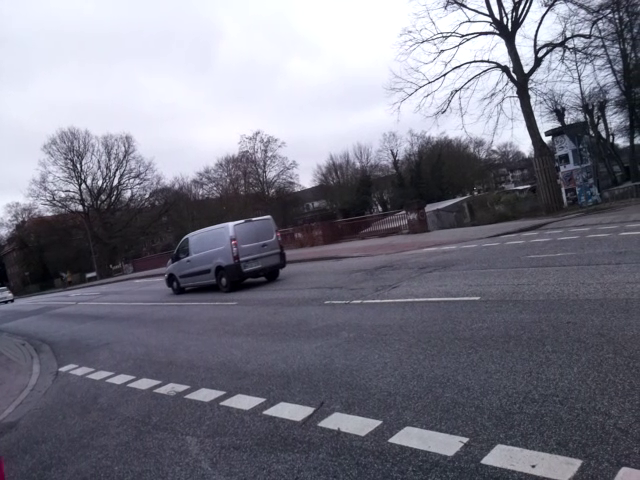car: (161, 214, 287, 289)
